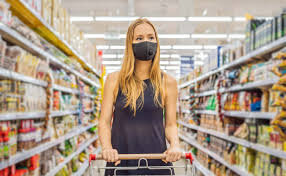with_basket: (80, 150, 194, 176)
with_mask: (127, 19, 158, 64)
